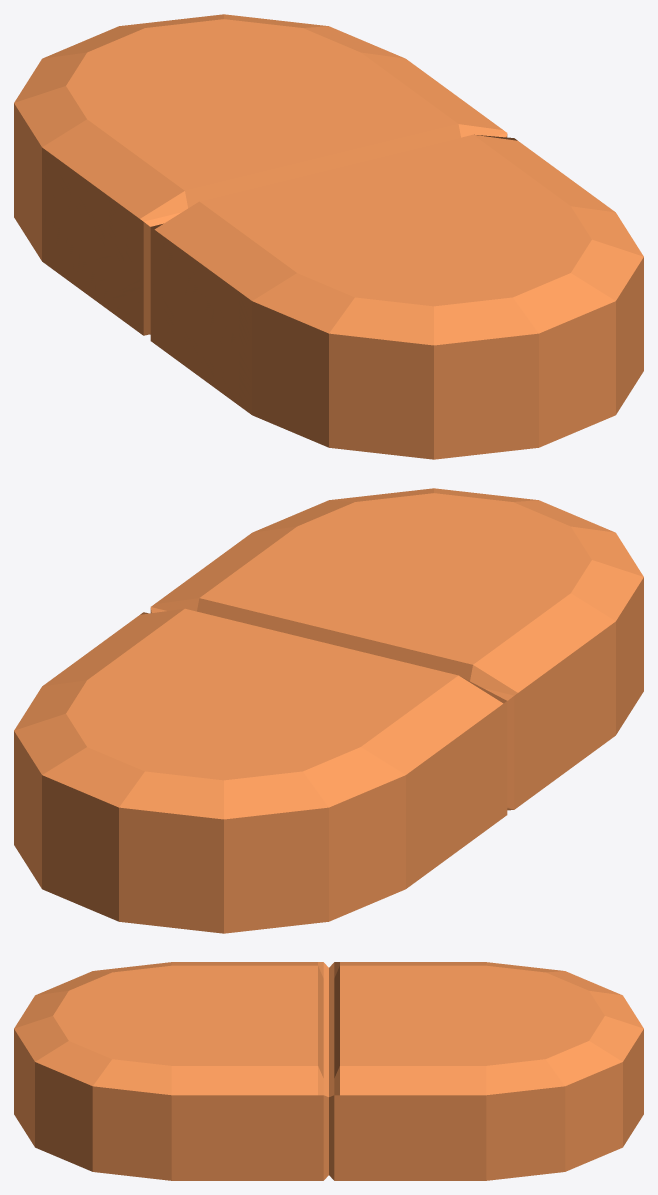
The model's file is Phile.glb.
3 renders of one model, top to bottom at view 1: azimuth 30°, elevation 25°; view 2: azimuth 150°, elevation 25°; view 3: azimuth 270°, elevation 25°, orthographic. The views are drawn at different scales.
Visible parts, largest first — view 1: Circle.011; view 2: Circle.011; view 3: Circle.011.
Boxes of the visible parts, x1,y1,x2,y2 form: Circle.011: (14, 14, 643, 459); Circle.011: (14, 488, 643, 933); Circle.011: (14, 962, 643, 1180).
Bounding box in the file's own units: 2 × 0.78 × 4.
